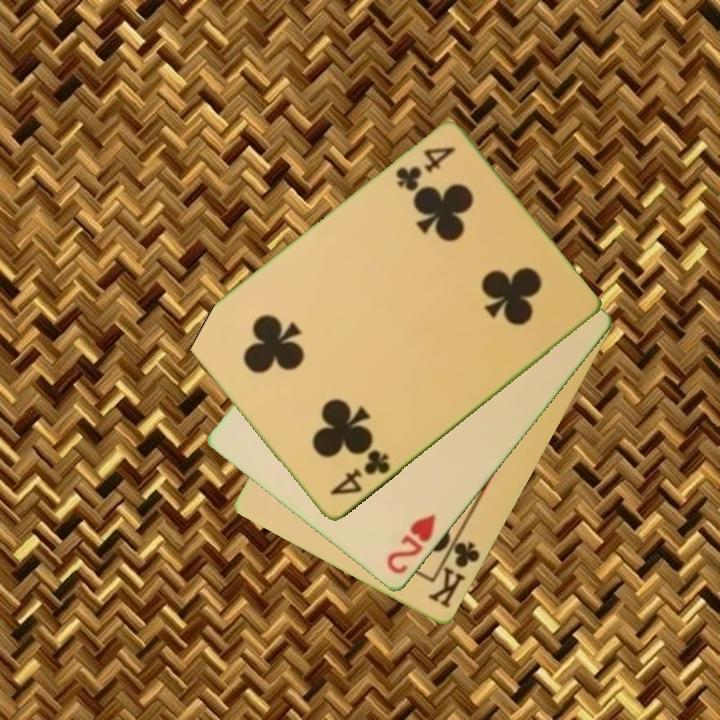2h: (383, 511, 439, 578)
4c: (326, 446, 393, 499), (392, 143, 459, 195)
Kc: (425, 529, 484, 612)
